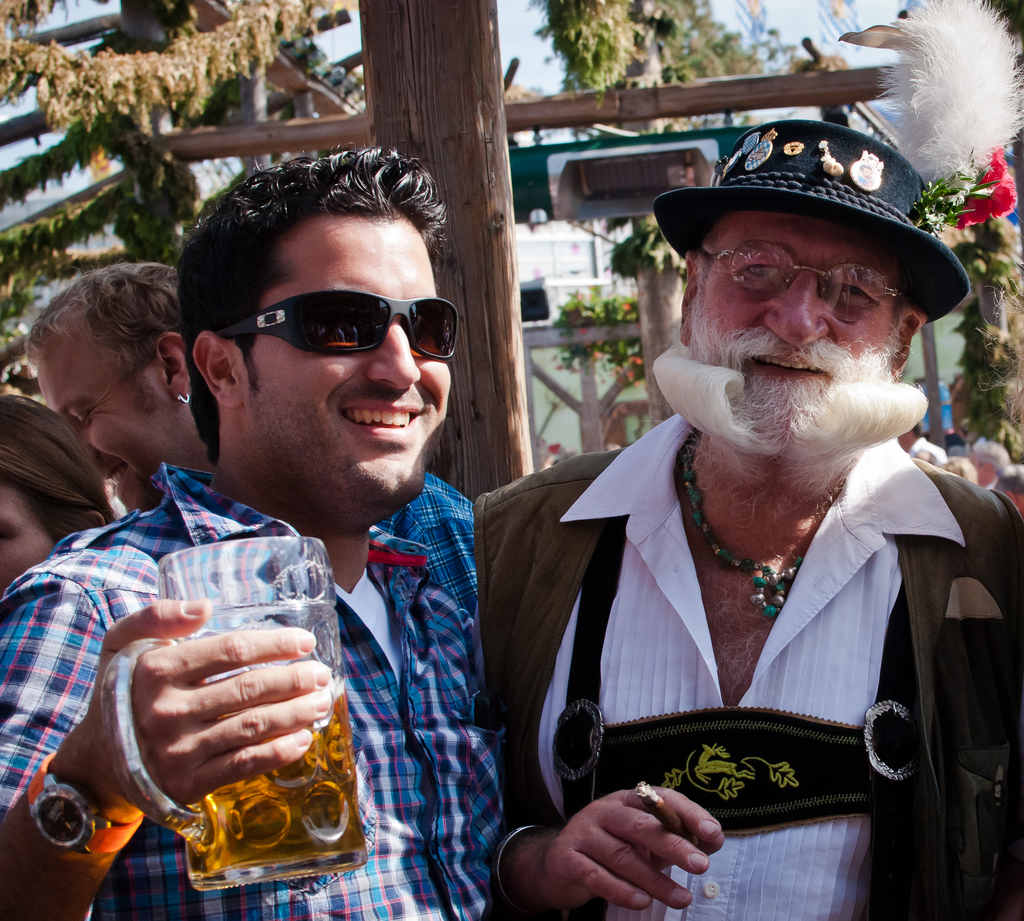Beer: (170, 678, 362, 879)
